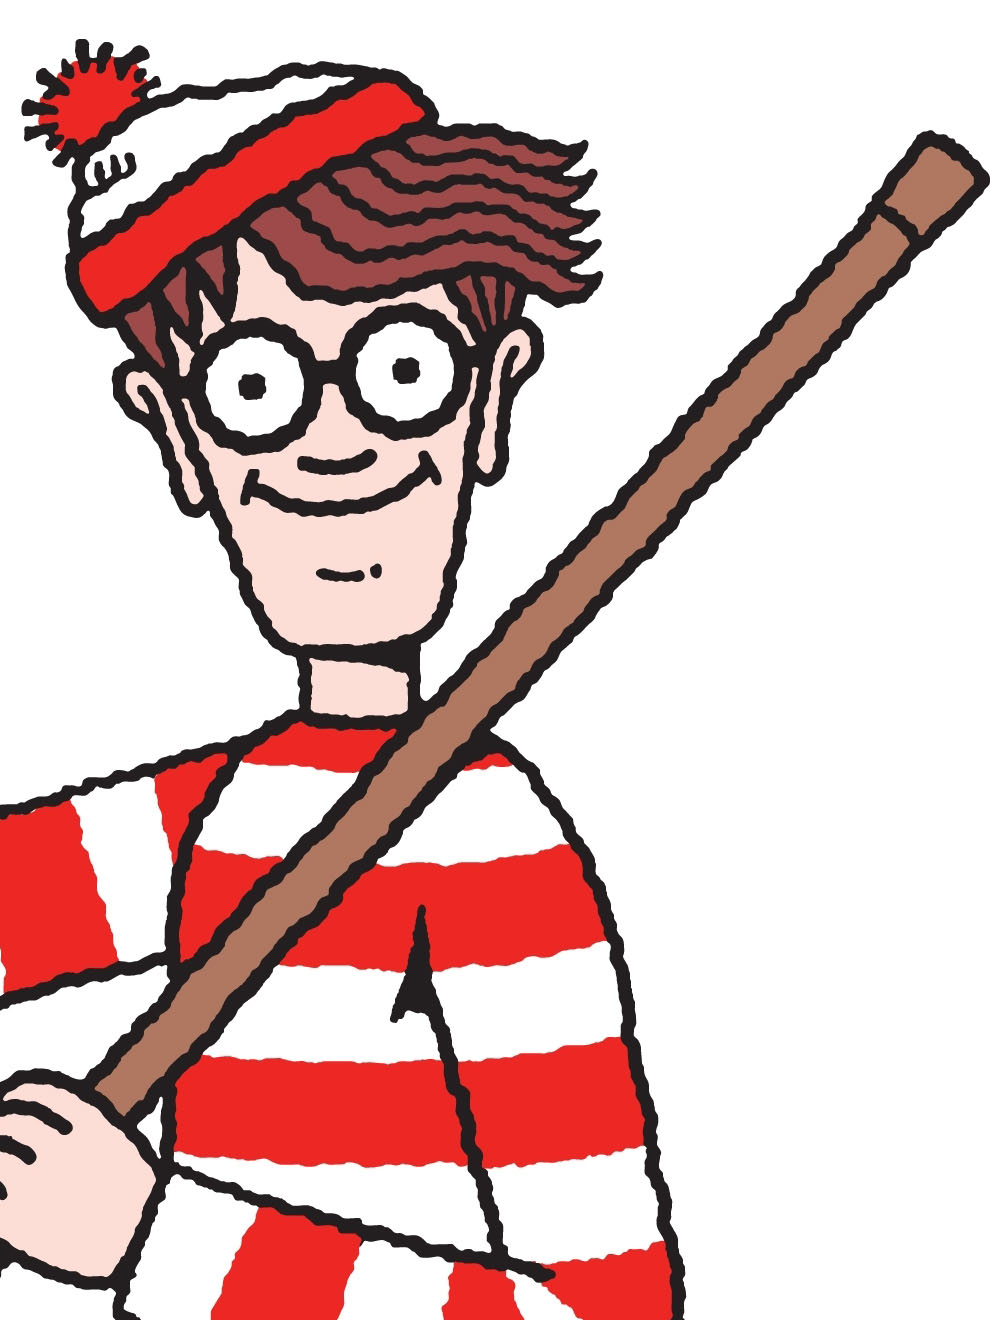waldo: (32, 43, 549, 668)
